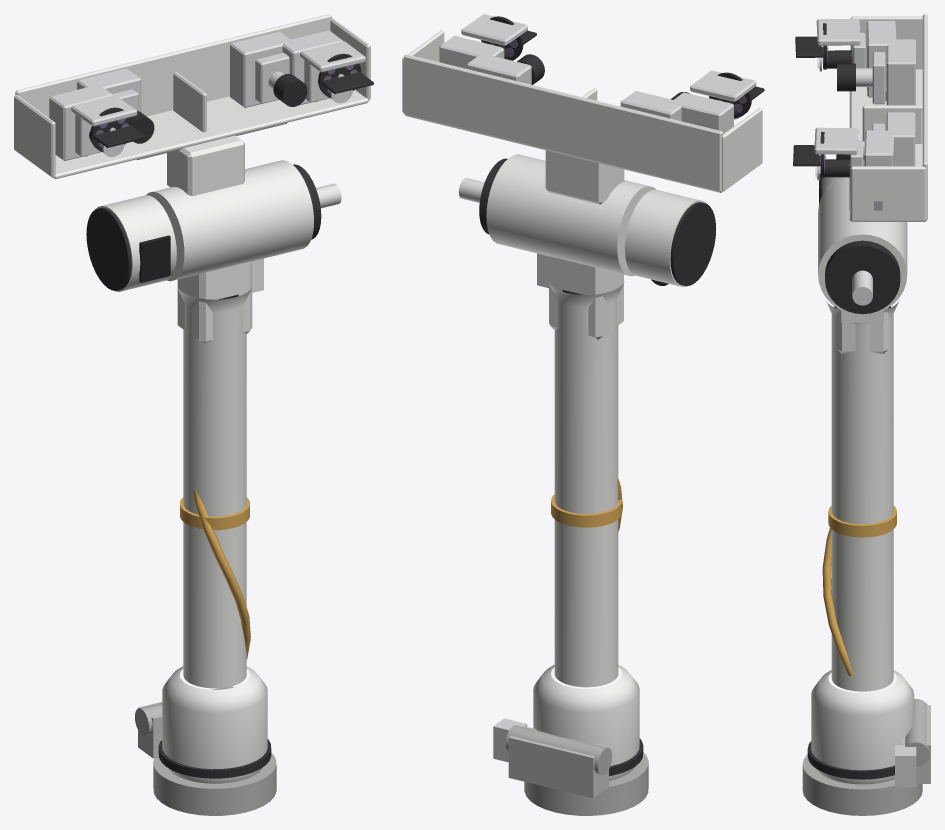
The model's file is mer-pancam.glb.
3 views of the same model, side by side, from view 1: azimuth 30°, elevation 25°; view 2: azimuth 150°, elevation 25°; view 3: azimuth 270°, elevation 25° (orthographic). The views are drawn at different scales.
Parts seen in each view (by area): view 1: PMA_MAST, CAMERA_BAR, PMA_HEAD_HOUSING, PMA_AZ_ACTUATOR, MINITES_SCAN_HEAD, PMA_BASE, NAVCAM_LEFT, PANCAM_RIGHT_ELECTRONICS, NAVCAM_RIGHT, PMA_HARNESS, PANCAM_LEFT_ELECTRONICS, PANCAM_LEFT_HOUSING (+4 smaller); view 2: CAMERA_BAR, PMA_MAST, PMA_HEAD_HOUSING, PMA_BASE, PMA_AZ_ACTUATOR, MINITES_SCAN_HEAD, PANCAM_RIGHT_ELECTRONICS, NAVCAM_LEFT, PANCAM_LEFT_ELECTRONICS, PANCAM_LEFT_HOUSING, PANCAM_RIGHT_HOUSING, NAVCAM_RIGHT; view 3: PMA_MAST, PMA_HEAD_HOUSING, PMA_AZ_ACTUATOR, CAMERA_BAR, PMA_BASE, NAVCAM_RIGHT, NAVCAM_LEFT, PMA_HARNESS, PANCAM_LEFT_ELECTRONICS, PANCAM_LEFT_HOUSING, PANCAM_RIGHT_ELECTRONICS, PANCAM_RIGHT_HOUSING (+6 smaller).
Boxes of the visible parts, x1,y1,x2,y2 form: PMA_MAST: [177, 258, 263, 688]; CAMERA_BAR: [14, 14, 370, 195]; PMA_HEAD_HOUSING: [146, 160, 341, 344]; PMA_AZ_ACTUATOR: [158, 666, 271, 783]; MINITES_SCAN_HEAD: [86, 195, 176, 291]; PMA_BASE: [135, 686, 276, 815]; NAVCAM_LEFT: [230, 31, 307, 107]; PANCAM_RIGHT_ELECTRONICS: [49, 84, 113, 160]; NAVCAM_RIGHT: [77, 68, 154, 143]; PMA_HARNESS: [192, 490, 250, 659]; PANCAM_LEFT_ELECTRONICS: [281, 30, 343, 105]; PANCAM_LEFT_HOUSING: [300, 41, 365, 72]; CAMERA_BAR: [402, 30, 762, 204]; PMA_MAST: [537, 253, 624, 687]; PMA_HEAD_HOUSING: [458, 154, 655, 339]; PMA_BASE: [493, 718, 648, 815]; PMA_AZ_ACTUATOR: [533, 665, 643, 780]; MINITES_SCAN_HEAD: [625, 189, 715, 287]; PANCAM_RIGHT_ELECTRONICS: [670, 92, 733, 133]; NAVCAM_LEFT: [467, 54, 544, 84]; PANCAM_LEFT_ELECTRONICS: [439, 35, 504, 68]; PANCAM_LEFT_HOUSING: [461, 14, 527, 45]; PANCAM_RIGHT_HOUSING: [690, 70, 756, 101]; NAVCAM_RIGHT: [620, 91, 689, 121]; PMA_MAST: [826, 301, 898, 691]; PMA_HEAD_HOUSING: [818, 177, 907, 353]; PMA_AZ_ACTUATOR: [807, 670, 914, 784]; CAMERA_BAR: [849, 14, 927, 221]; PMA_BASE: [802, 699, 930, 815]; NAVCAM_RIGHT: [837, 39, 915, 105]; NAVCAM_LEFT: [836, 112, 915, 166]; PMA_HARNESS: [822, 527, 853, 675]; PANCAM_LEFT_ELECTRONICS: [864, 130, 893, 210]; PANCAM_LEFT_HOUSING: [814, 127, 858, 154]; PANCAM_RIGHT_ELECTRONICS: [866, 20, 896, 100]; PANCAM_RIGHT_HOUSING: [816, 19, 860, 45].
Size of the model in its own units: 0.4199 by 0.9088 by 0.1606.
